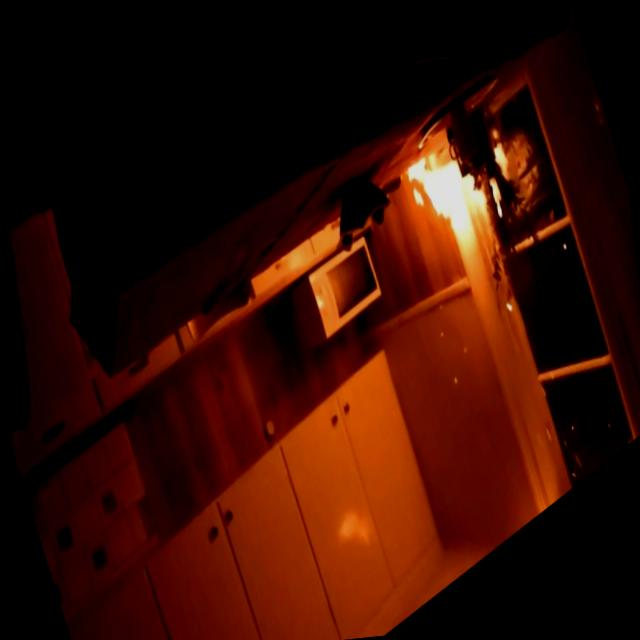fire: (377, 57, 550, 316)
